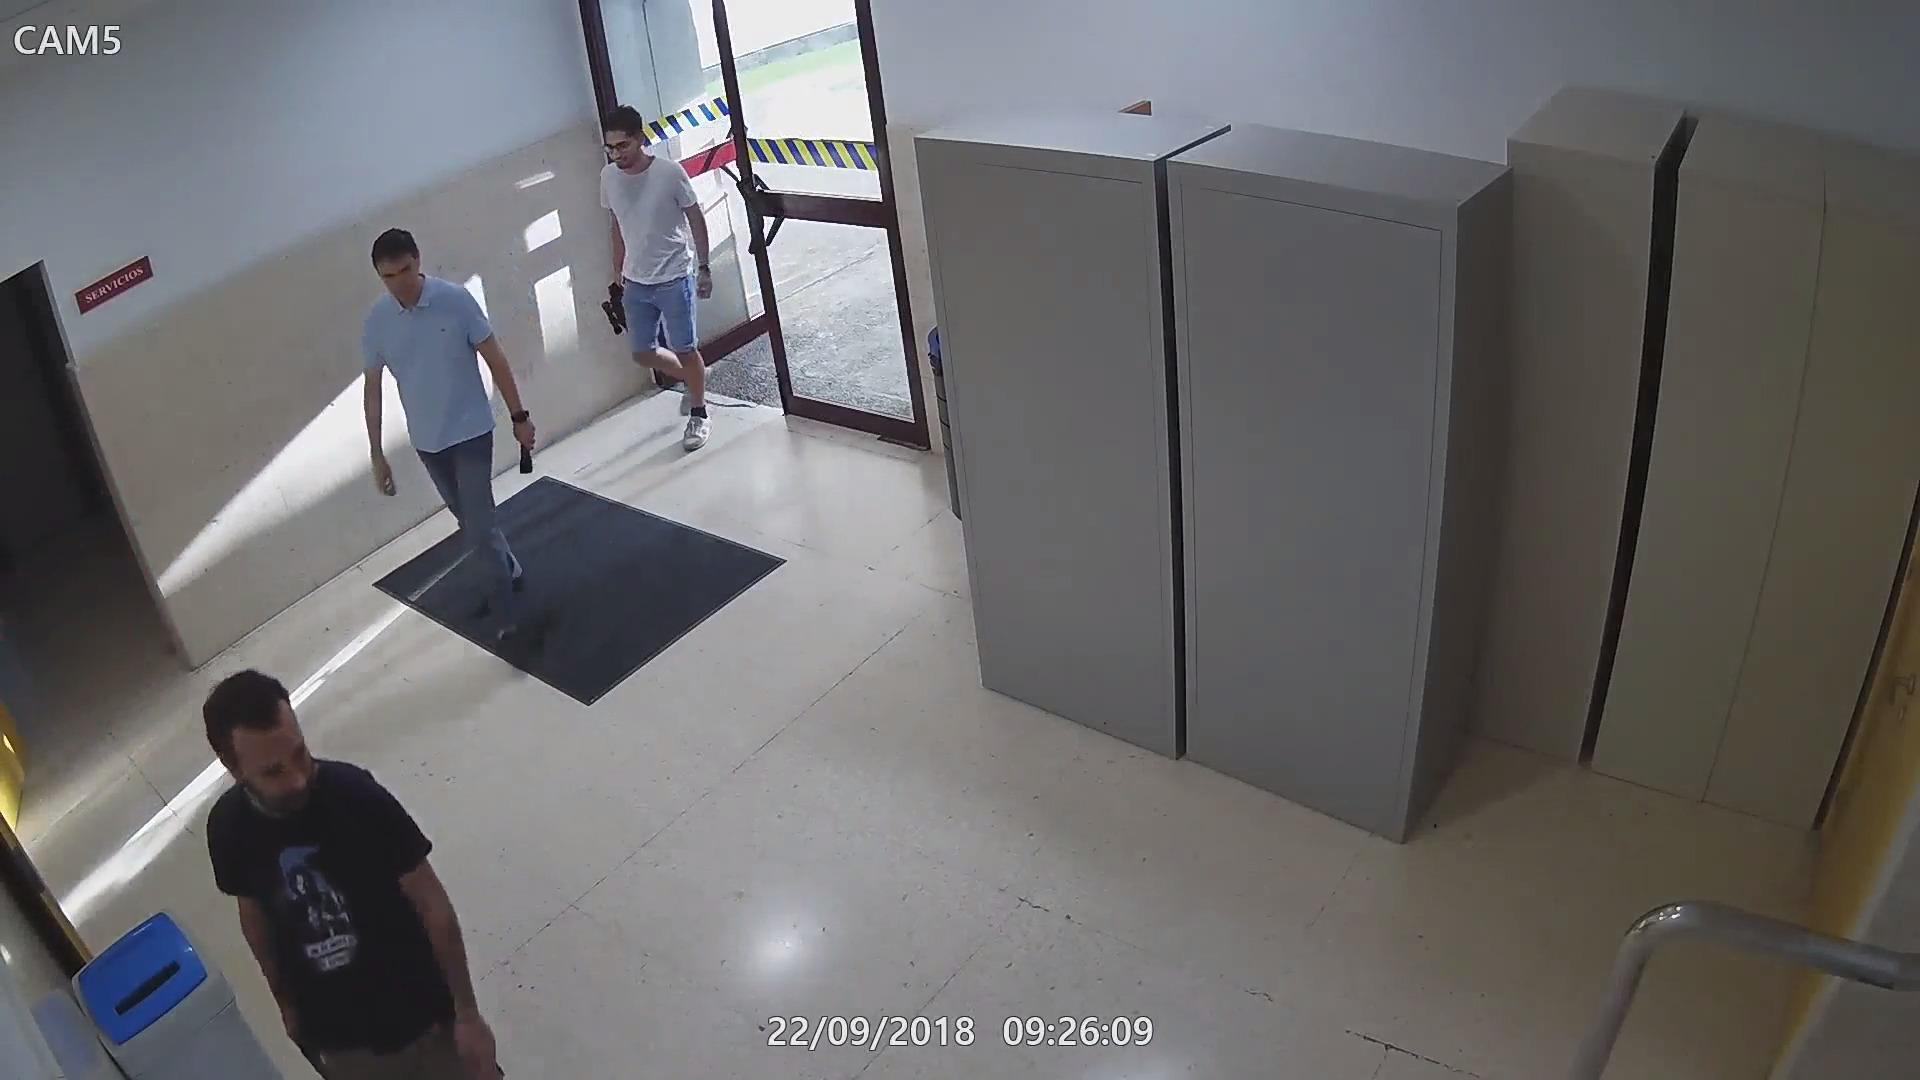Handgun: (282, 1019, 331, 1076)
